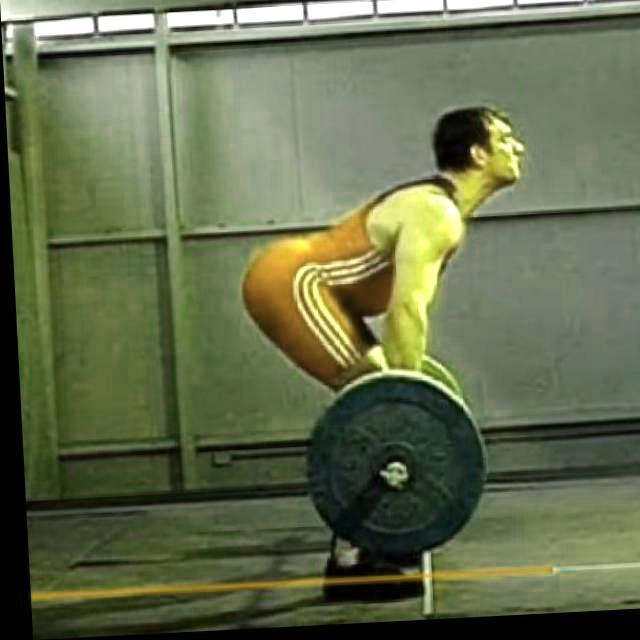barbell: (292, 367, 485, 567)
